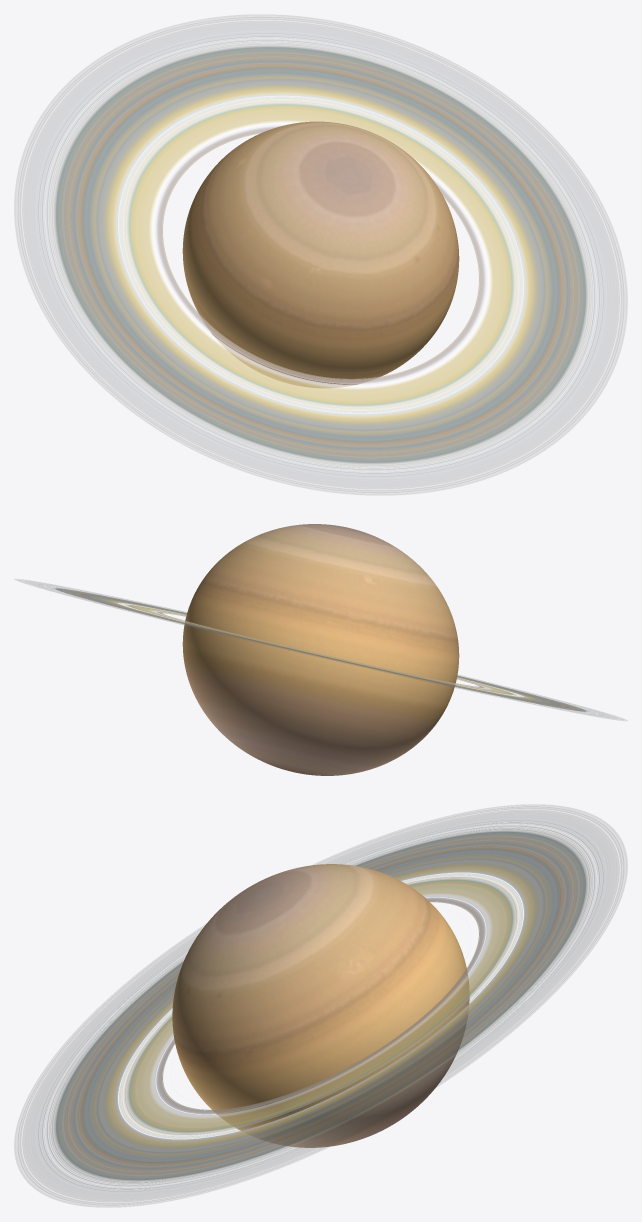
Rendered from 6_saturn.gltf.
3 renders of one model, top to bottom at view 1: azimuth 30°, elevation 25°; view 2: azimuth 150°, elevation 25°; view 3: azimuth 270°, elevation 25°, orthographic. The views are drawn at different scales.
Visible parts, largest first — view 1: Saturn_rings, Saturn_globe; view 2: Saturn_globe, Saturn_rings; view 3: Saturn_rings, Saturn_globe.
Boxes of the visible parts, <box> form: Saturn_rings: <box>15,15,626,494</box>; Saturn_globe: <box>182,121,459,387</box>; Saturn_globe: <box>182,524,459,775</box>; Saturn_rings: <box>15,579,626,720</box>; Saturn_rings: <box>15,805,626,1206</box>; Saturn_globe: <box>172,864,469,1147</box>.
Bounding box in the file's own units: 273 × 123 × 244.
2 materials, 2 textured.
